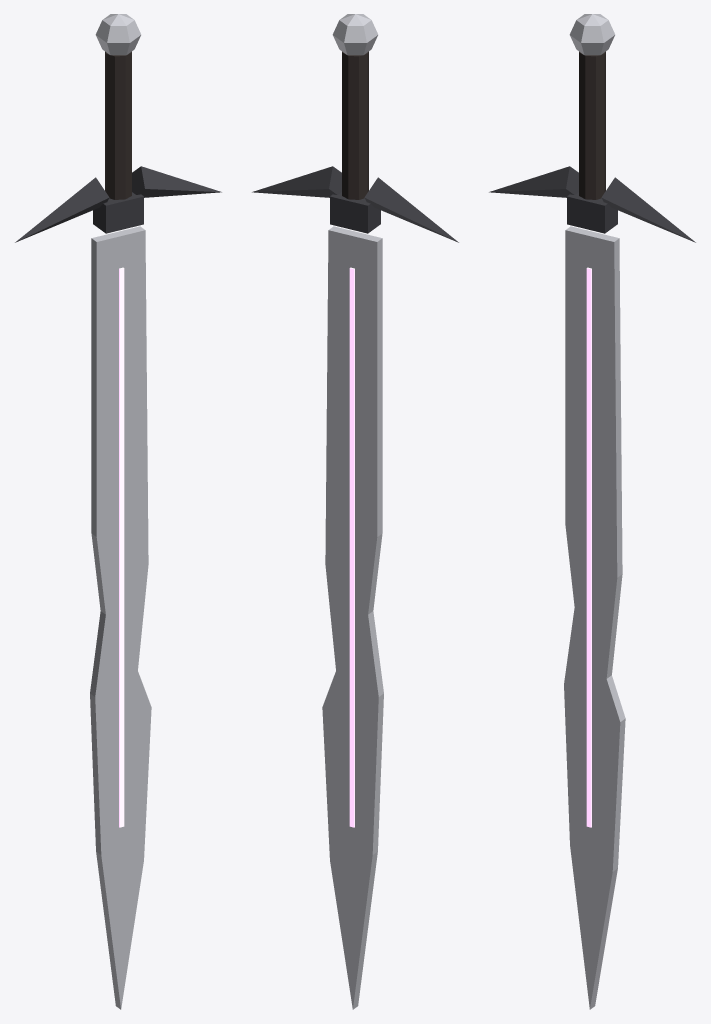
Rendered from espada_umbral.glb.
The picture shows the model from 3 angles, left to right: view 1: azimuth 30°, elevation 25°; view 2: azimuth 150°, elevation 25°; view 3: azimuth 330°, elevation 25°; orthographic projection.
Visible parts, largest first — view 1: EspadaUmbral; view 2: EspadaUmbral; view 3: EspadaUmbral.
Boxes of the visible parts, x1,y1,x2,y2 form: EspadaUmbral: [15, 14, 221, 1009]; EspadaUmbral: [252, 14, 458, 1009]; EspadaUmbral: [489, 14, 695, 1009].
Size of the model in its own units: 0.2736 by 1.25 by 0.052.
